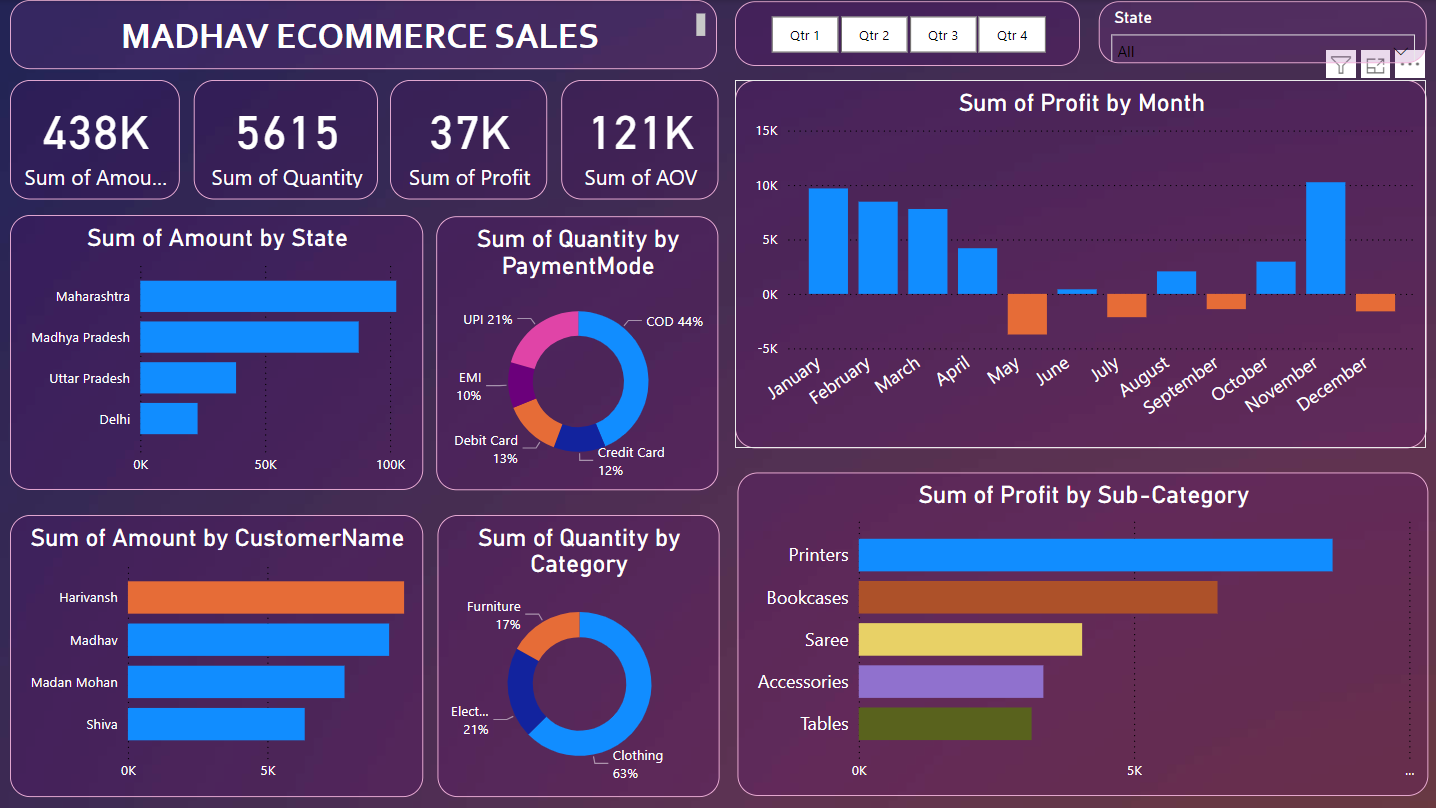

Layout of this report page (visuals, bound fields, positions):
{"tool":"powerbi","page":{"name":"Page 1","canvas":[1280,720],"ordinal":0},"visuals":[{"type":"textbox","box":[8.4,0,629.8,61.5],"z":0},{"type":"columnChart","fields":{"Category":["Orders.Order Date.Variation.Date Hierarchy.Month"],"Y":["Details.Profit"]},"box":[654.5,71.4,616.1,328],"z":1000},{"type":"barChart","fields":{"Category":["Details.Sub-Category"],"Y":["Details.Profit"]},"box":[656.3,421,615.3,288.3],"z":2000},{"type":"donutChart","fields":{"Y":["Details.Quantity"],"Series":["Details.PaymentMode"]},"box":[388.3,192.1,251.1,244.3],"z":3000},{"type":"donutChart","fields":{"Category":["Details.Category"],"Y":["Details.Quantity"]},"box":[389.7,458.4,250.9,250.9],"z":4000},{"type":"card","fields":{"Values":["Details.Amount"]},"box":[8.4,71.2,150.8,106.2],"z":5000},{"type":"card","fields":{"Values":["Details.Quantity"]},"box":[172.5,71.2,164.1,106.2],"z":6000},{"type":"card","fields":{"Values":["Details.Profit"]},"box":[347.5,71.2,139.9,106.2],"z":7000},{"type":"card","fields":{"Values":["Details.AOV"]},"box":[499.5,71.2,139.9,106.2],"z":8000},{"type":"barChart","fields":{"Category":["Orders.State"],"Y":["Details.Amount"]},"box":[8.4,191.8,368,244.9],"z":9000},{"type":"barChart","fields":{"Category":["Orders.CustomerName"],"Y":["Details.Amount"]},"box":[8.4,458.4,368,250.9],"z":10000},{"type":"slicer","fields":{"Values":["Orders.Order Date.Variation.Date Hierarchy.Quarter"]},"box":[654.5,1.4,307.4,57.6],"z":11000},{"type":"slicer","fields":{"Values":["Orders.State"]},"box":[978.4,1,292.3,54.9],"z":12000}]}

Visuals, with their boxes in screenshot pixels (x1, y1, x2, y2), scaled from the page's 1280x720 canvas onto the 1436x808 screenshot:
textbox: bbox=[9, 0, 716, 69]
columnChart - Orders.Order Date.Variation.Date Hierarchy.Month x Details.Profit: bbox=[734, 80, 1425, 448]
barChart - Details.Sub-Category x Details.Profit: bbox=[736, 472, 1427, 796]
donutChart - Details.Quantity x Details.PaymentMode: bbox=[436, 216, 717, 490]
donutChart - Details.Category x Details.Quantity: bbox=[437, 514, 719, 796]
card - Details.Amount: bbox=[9, 80, 179, 199]
card - Details.Quantity: bbox=[194, 80, 378, 199]
card - Details.Profit: bbox=[390, 80, 547, 199]
card - Details.AOV: bbox=[560, 80, 717, 199]
barChart - Orders.State x Details.Amount: bbox=[9, 215, 422, 490]
barChart - Orders.CustomerName x Details.Amount: bbox=[9, 514, 422, 796]
slicer - Orders.Order Date.Variation.Date Hierarchy.Quarter: bbox=[734, 2, 1079, 66]
slicer - Orders.State: bbox=[1098, 1, 1426, 63]
